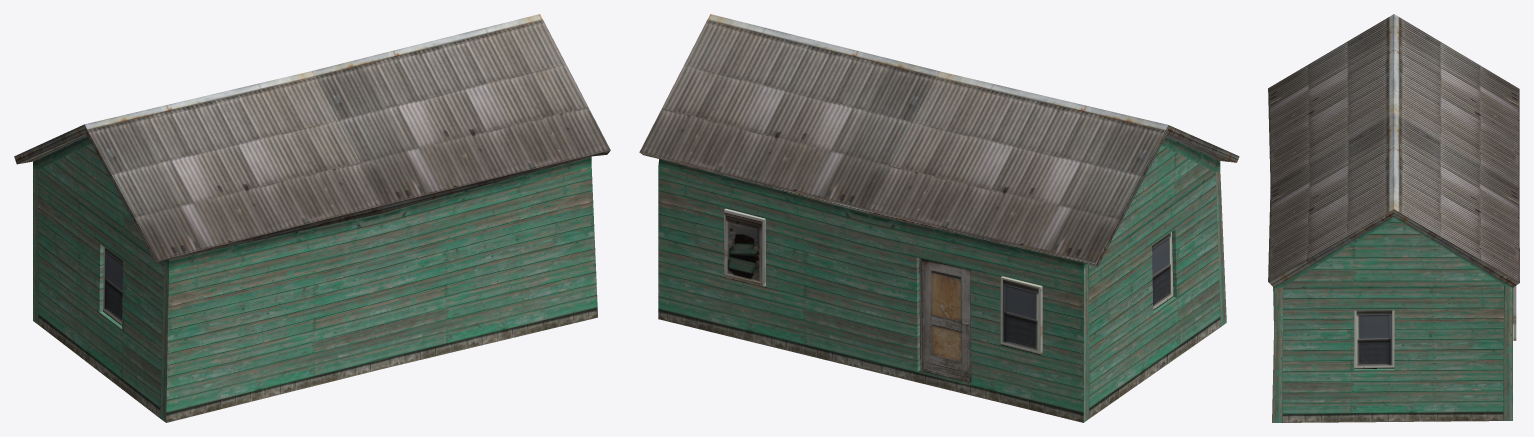
The model's file is house01_elements_0.glb.
The picture shows the model from 3 angles, left to right: view 1: azimuth 30°, elevation 25°; view 2: azimuth 150°, elevation 25°; view 3: azimuth 270°, elevation 25°; orthographic projection. The views are drawn at different scales.
Visible parts, largest first — view 1: house01_elements_0.003; view 2: house01_elements_0.003; view 3: house01_elements_0.003.
Boxes of the visible parts, x1,y1,x2,y2 form: house01_elements_0.003: (14,14,610,422); house01_elements_0.003: (639,14,1239,422); house01_elements_0.003: (1268,14,1519,422).
Bounding box in the file's own units: 8.69 × 4.57 × 4.75.
Materials: 1 (1 with a texture image).
